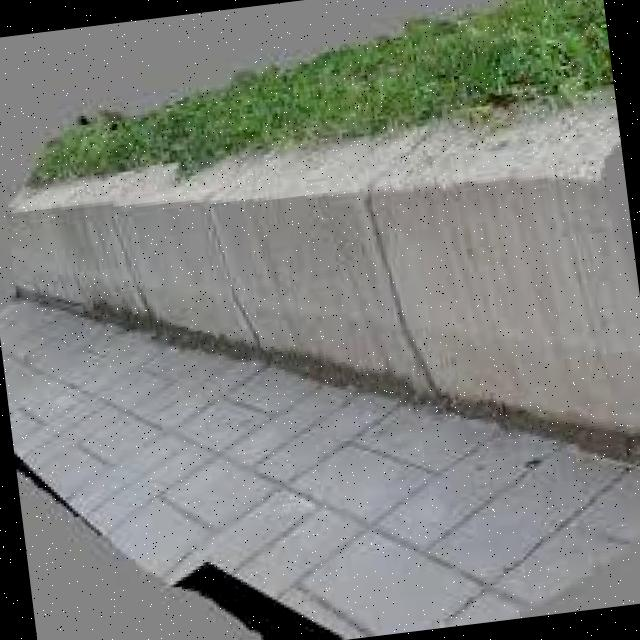curb: (338, 97, 640, 470), (122, 140, 389, 406), (1, 166, 148, 326)
